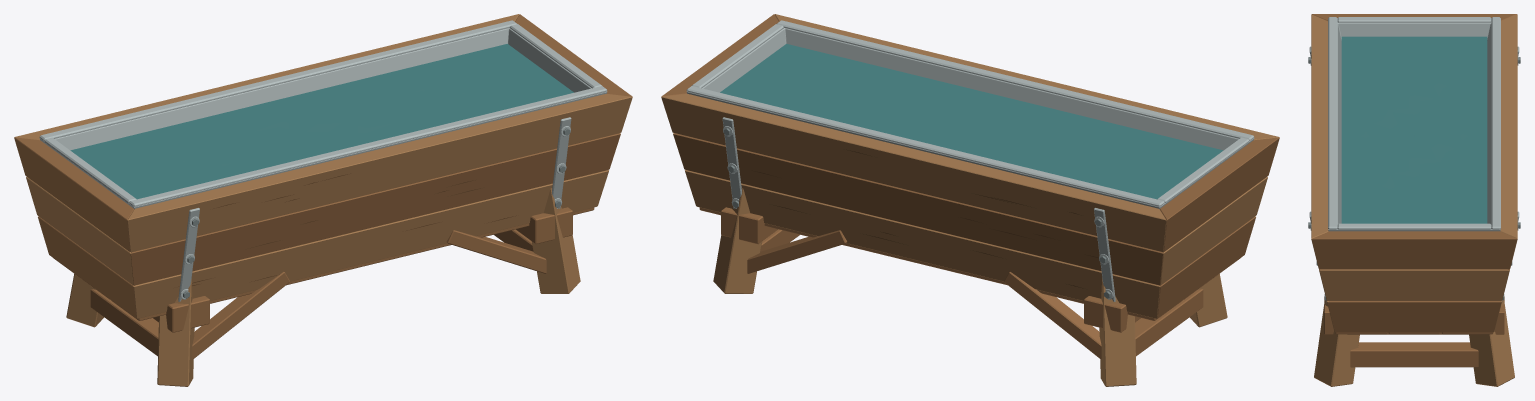
The picture shows the model from 3 angles, left to right: view 1: azimuth 30°, elevation 25°; view 2: azimuth 150°, elevation 25°; view 3: azimuth 270°, elevation 25°; orthographic projection. The views are drawn at different scales.
Visible parts, largest first — view 1: Water level full to empty, Timber wall course 3 side 1, Timber wall course 2 side 1, Timber wall course 1 side 1, Continuous hollow galvanized liner, Timber wall course 3 side 4, Folded long rim, Folded long rim.001, Timber wall course 2 side 4, Timber wall course 1 side 4, Timber wall course 3 side 3, Square splayed ranch leg (+13 smaller); view 2: Water level full to empty, Timber wall course 3 side 3, Timber wall course 2 side 3, Timber wall course 1 side 3, Continuous hollow galvanized liner, Timber wall course 3 side 4, Folded long rim.001, Folded long rim, Timber wall course 2 side 4, Timber wall course 1 side 4, Timber wall course 3 side 1, Square splayed ranch leg.001 (+13 smaller); view 3: Water level full to empty, Timber wall course 3 side 2, Timber wall course 2 side 2, Timber wall course 1 side 2, Continuous hollow galvanized liner, Timber wall course 3 side 1, Timber wall course 3 side 3, Lower end tie.001, Folded long rim, Folded long rim.001, Square splayed ranch leg.002, Square splayed ranch leg.003 (+4 smaller).
Part boxes in pixels (x1=…): Water level full to empty: x1=70, y1=44, x2=573, y2=199; Timber wall course 3 side 1: x1=127, y1=94, x2=632, y2=252; Timber wall course 2 side 1: x1=130, y1=133, x2=620, y2=285; Timber wall course 1 side 1: x1=133, y1=170, x2=608, y2=318; Continuous hollow galvanized liner: x1=39, y1=28, x2=607, y2=209; Timber wall course 3 side 4: x1=14, y1=137, x2=133, y2=251; Folded long rim: x1=129, y1=86, x2=607, y2=206; Folded long rim.001: x1=39, y1=20, x2=516, y2=140; Timber wall course 2 side 4: x1=26, y1=177, x2=133, y2=285; Timber wall course 1 side 4: x1=38, y1=216, x2=136, y2=318; Timber wall course 3 side 3: x1=14, y1=14, x2=519, y2=140; Square splayed ranch leg: x1=157, y1=279, x2=194, y2=386; Water level full to empty: x1=720, y1=44, x2=1223, y2=199; Timber wall course 3 side 3: x1=661, y1=94, x2=1166, y2=252; Timber wall course 2 side 3: x1=673, y1=133, x2=1163, y2=285; Timber wall course 1 side 3: x1=685, y1=170, x2=1160, y2=318; Continuous hollow galvanized liner: x1=686, y1=28, x2=1254, y2=209; Timber wall course 3 side 4: x1=1160, y1=137, x2=1279, y2=251; Folded long rim.001: x1=686, y1=86, x2=1164, y2=206; Folded long rim: x1=777, y1=20, x2=1254, y2=140; Timber wall course 2 side 4: x1=1160, y1=177, x2=1267, y2=285; Timber wall course 1 side 4: x1=1157, y1=216, x2=1255, y2=318; Timber wall course 3 side 1: x1=774, y1=14, x2=1279, y2=140; Square splayed ranch leg.001: x1=1099, y1=279, x2=1136, y2=386; Water level full to empty: x1=1341, y1=36, x2=1487, y2=223; Timber wall course 3 side 2: x1=1311, y1=231, x2=1517, y2=269; Timber wall course 2 side 2: x1=1319, y1=269, x2=1509, y2=300; Timber wall course 1 side 2: x1=1327, y1=301, x2=1501, y2=332; Continuous hollow galvanized liner: x1=1328, y1=22, x2=1500, y2=231; Timber wall course 3 side 1: x1=1311, y1=14, x2=1328, y2=268; Timber wall course 3 side 3: x1=1500, y1=14, x2=1517, y2=268; Lower end tie.001: x1=1350, y1=342, x2=1478, y2=367; Folded long rim: x1=1328, y1=17, x2=1337, y2=229; Folded long rim.001: x1=1491, y1=17, x2=1500, y2=229; Square splayed ranch leg.002: x1=1314, y1=300, x2=1359, y2=386; Square splayed ranch leg.003: x1=1469, y1=300, x2=1514, y2=386.
Bounding box in the file's own units: 1.8 × 0.6548 × 0.7177.
